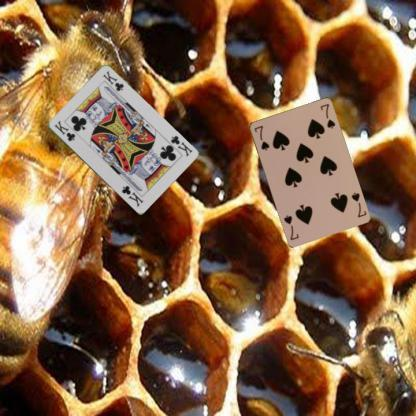7s: (349, 190, 368, 218), (252, 123, 270, 151)
Kc: (168, 133, 194, 158), (52, 118, 76, 143)
